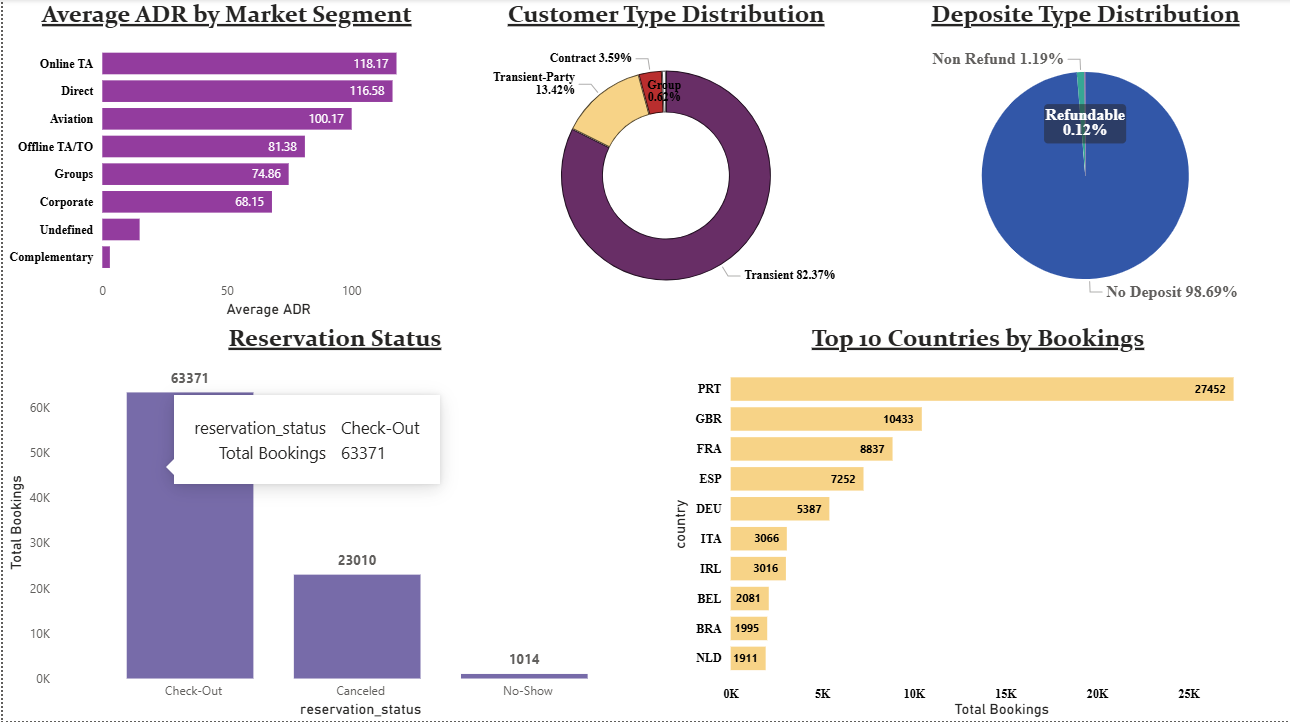

This screenshot's page, from the dashboard's own definition file:
{"tool":"powerbi","page":{"name":"Business Insights","canvas":[1280,720],"ordinal":1},"visuals":[{"type":"clusteredBarChart","title":"Average ADR by Market Segment","fields":{"Category":["hotel_bookings_cleaned.market_segment"],"Y":["hotel_bookings_cleaned.Average ADR"]},"box":[0,0,445.3,322.2],"z":0},{"type":"donutChart","title":"Customer Type Distribution","fields":{"Category":["hotel_bookings_cleaned.customer_type"],"Y":["hotel_bookings_cleaned.Total Bookings"]},"box":[445.3,0,429.2,322.2],"z":1000},{"type":"pieChart","title":"Deposite Type Distribution","fields":{"Category":["hotel_bookings_cleaned.deposit_type"],"Y":["hotel_bookings_cleaned.Total Bookings"]},"box":[874.5,0,405.5,322.2],"z":2000},{"type":"clusteredColumnChart","title":"Reservation Status","fields":{"Category":["hotel_bookings_cleaned.reservation_status"],"Y":["hotel_bookings_cleaned.Total Bookings"]},"box":[0,322.2,660.5,398.1],"z":3000},{"type":"clusteredBarChart","title":"Top 10 Countries by Bookings","fields":{"Category":["hotel_bookings_cleaned.country"],"Y":["hotel_bookings_cleaned.Total Bookings"]},"box":[660.5,322.2,619.5,398.1],"z":4000}]}

Visuals, with their boxes in screenshot pixels (x1, y1, x2, y2), scaled from the page's 1280x720 canvas onto the 1290x722 screenshot:
"Average ADR by Market Segment" clusteredBarChart: {"left": 0, "top": 0, "right": 449, "bottom": 323}
"Customer Type Distribution" donutChart: {"left": 449, "top": 0, "right": 881, "bottom": 323}
"Deposite Type Distribution" pieChart: {"left": 881, "top": 0, "right": 1289, "bottom": 323}
"Reservation Status" clusteredColumnChart: {"left": 0, "top": 323, "right": 666, "bottom": 721}
"Top 10 Countries by Bookings" clusteredBarChart: {"left": 666, "top": 323, "right": 1289, "bottom": 721}
